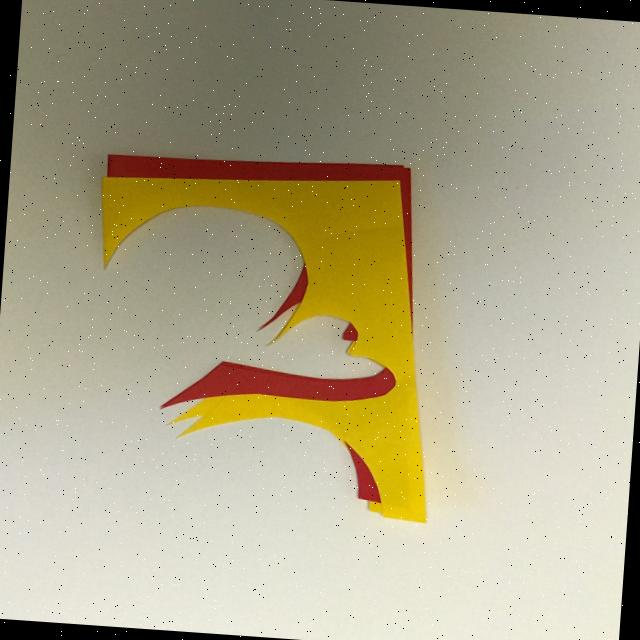paper: (79, 144, 452, 524)
